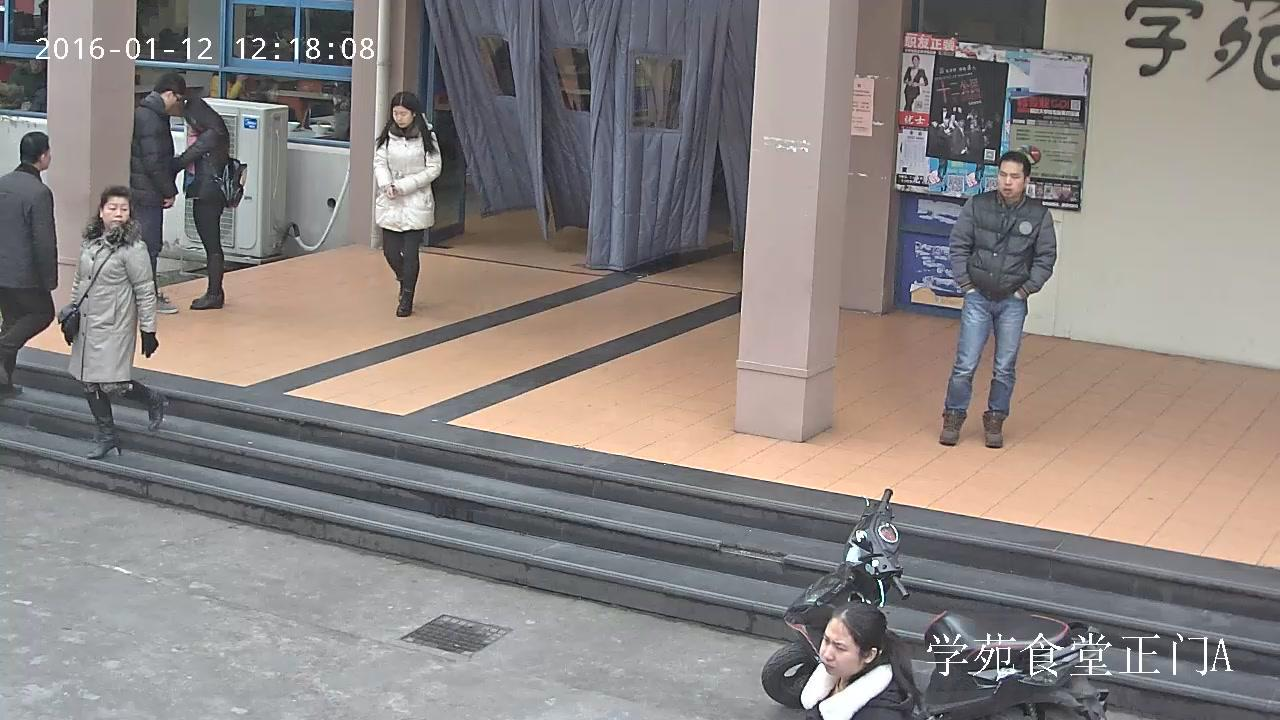person: (937, 150, 1058, 445), (56, 185, 171, 459), (373, 89, 442, 316), (0, 130, 58, 396), (175, 98, 246, 309), (800, 601, 918, 720), (131, 73, 186, 313), (902, 55, 928, 111), (328, 86, 350, 139)
